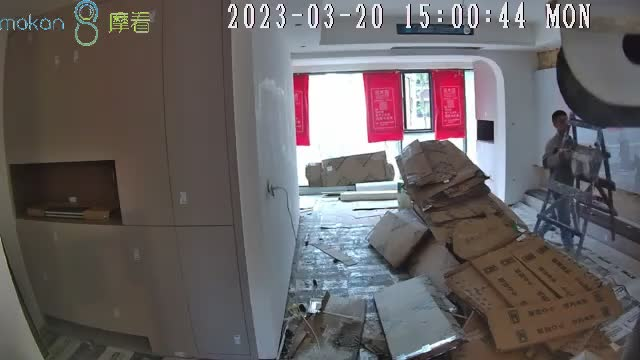people: (543, 110, 577, 252)
window: (293, 69, 469, 188)
